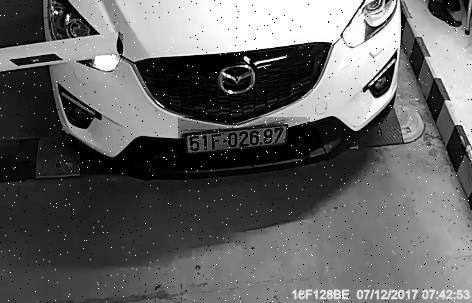License-plate: (180, 118, 313, 160)
